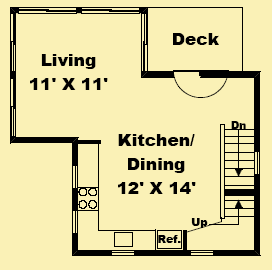door: (173, 72, 229, 100)
stairs: (220, 119, 255, 219)
window: (140, 13, 151, 73), (8, 77, 18, 136), (17, 6, 78, 15), (79, 6, 139, 14), (70, 164, 79, 188), (189, 249, 214, 257), (72, 210, 80, 234), (110, 249, 136, 256)
